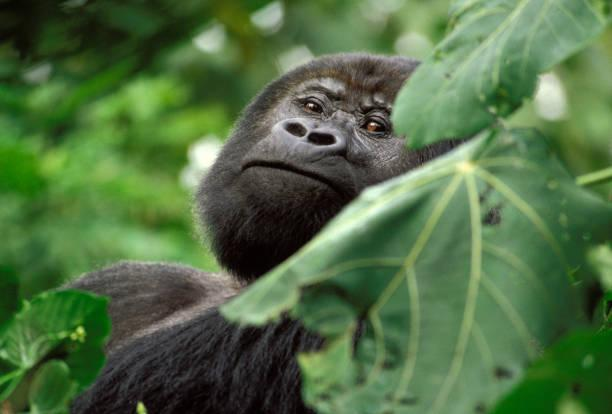goriile_montagne: (48, 1, 447, 414)
